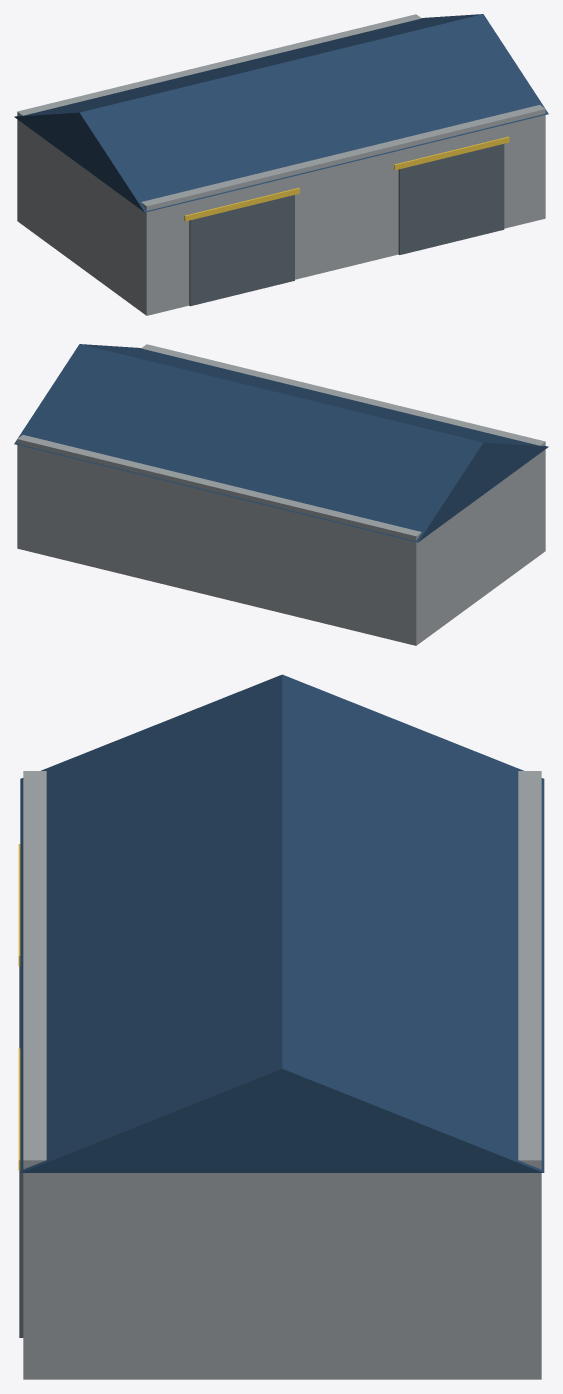
The model's file is warehouse.glb.
3 renders of one model, top to bottom at view 1: azimuth 30°, elevation 25°; view 2: azimuth 150°, elevation 25°; view 3: azimuth 270°, elevation 25°, orthographic. The views are drawn at different scales.
Visible parts, largest first — view 1: Body; view 2: Body; view 3: Body.
Part boxes in pixels (x1=…): Body: x1=14, y1=14, x2=548, y2=315; Body: x1=14, y1=344, x2=548, y2=645; Body: x1=18, y1=674, x2=544, y2=1379.
Size of the model in its own units: 16.2 by 6 by 9.13.
